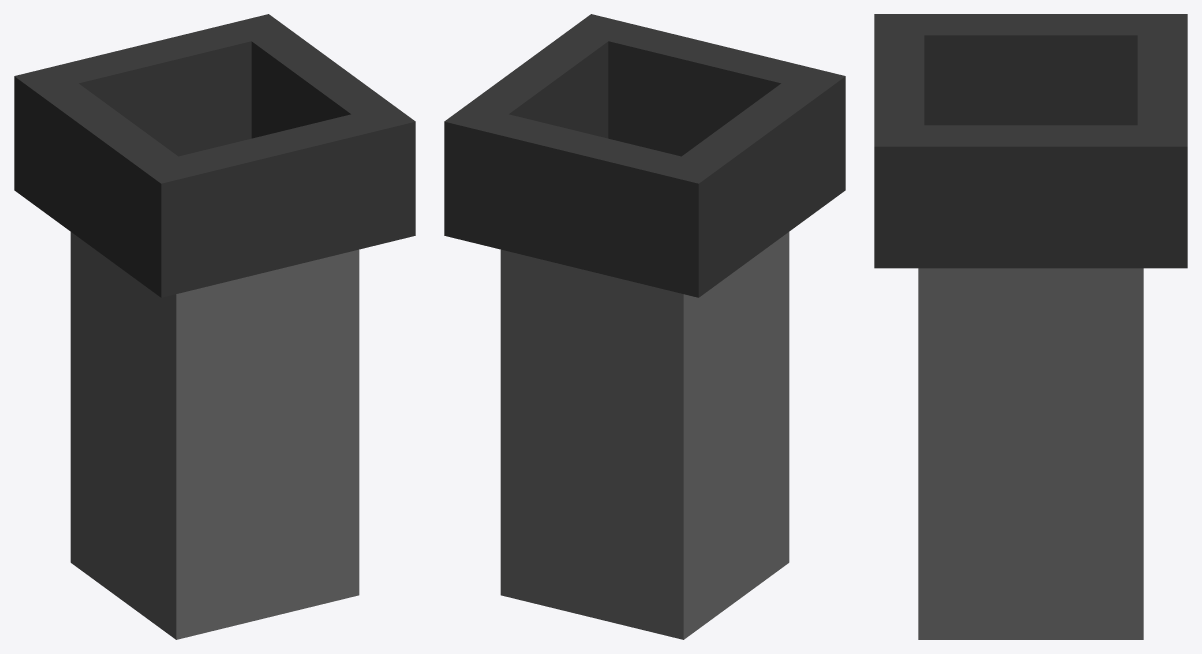
File: Chimney1_C3.fbx
3 views of the same model, side by side, from view 1: azimuth 30°, elevation 25°; view 2: azimuth 150°, elevation 25°; view 3: azimuth 270°, elevation 25° (orthographic). The views are drawn at different scales.
Parts seen in each view (by area): view 1: Chimney1_C3; view 2: Chimney1_C3; view 3: Chimney1_C3.
Boxes of the visible parts, x1,y1,x2,y2 form: Chimney1_C3: (14, 14, 415, 639); Chimney1_C3: (444, 14, 845, 639); Chimney1_C3: (874, 14, 1187, 639).
Bounding box in the file's own units: 55.59 × 100 × 55.59.
